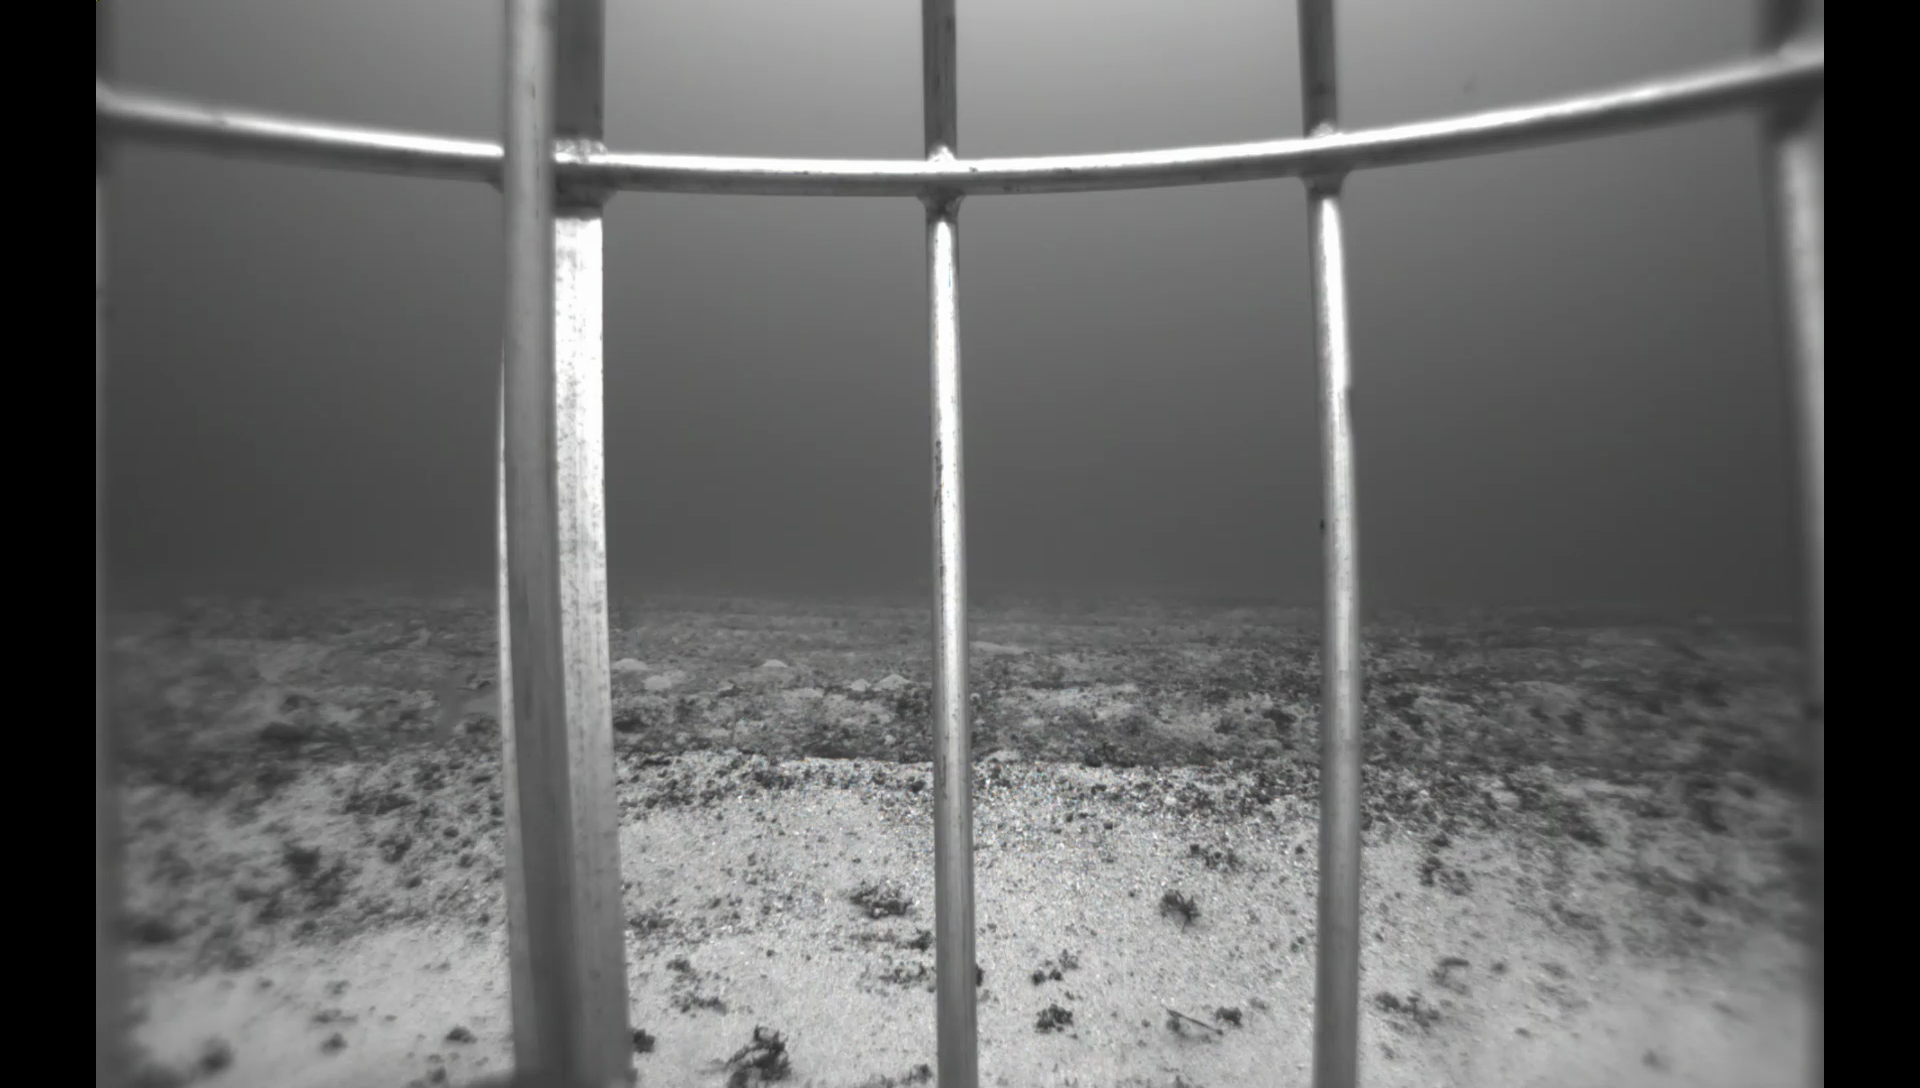CALAMUSPRORIDENS-170210605: (415, 645, 504, 766)
